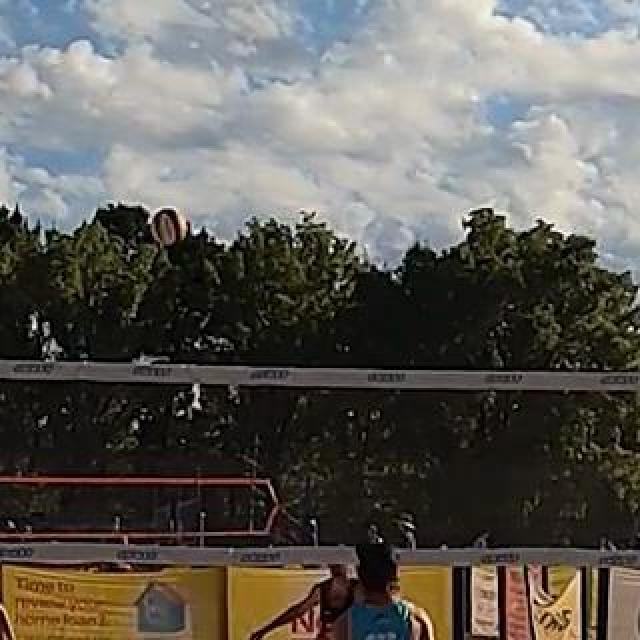volleyball: (152, 209, 190, 245)
